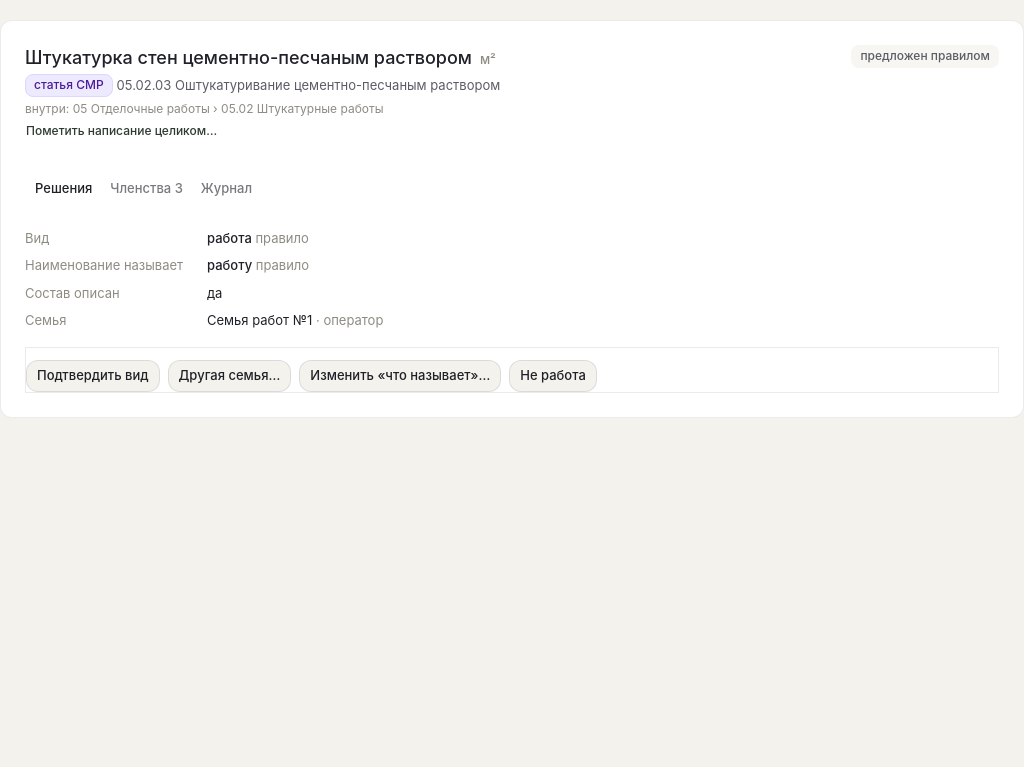
Test: ContextCard › раскрытие группы грузит её страницу запросом группы
Check: the heading "Штукатурка стен цементно-песчаным раствором" is shown, box x1=25 y1=47 x2=472 y2=68
What coordinates should you click on to do the following:
click the tab "Членства 3"
I would click on:
 (147, 189)
Its box is x1=103 y1=177 x2=190 y2=201.
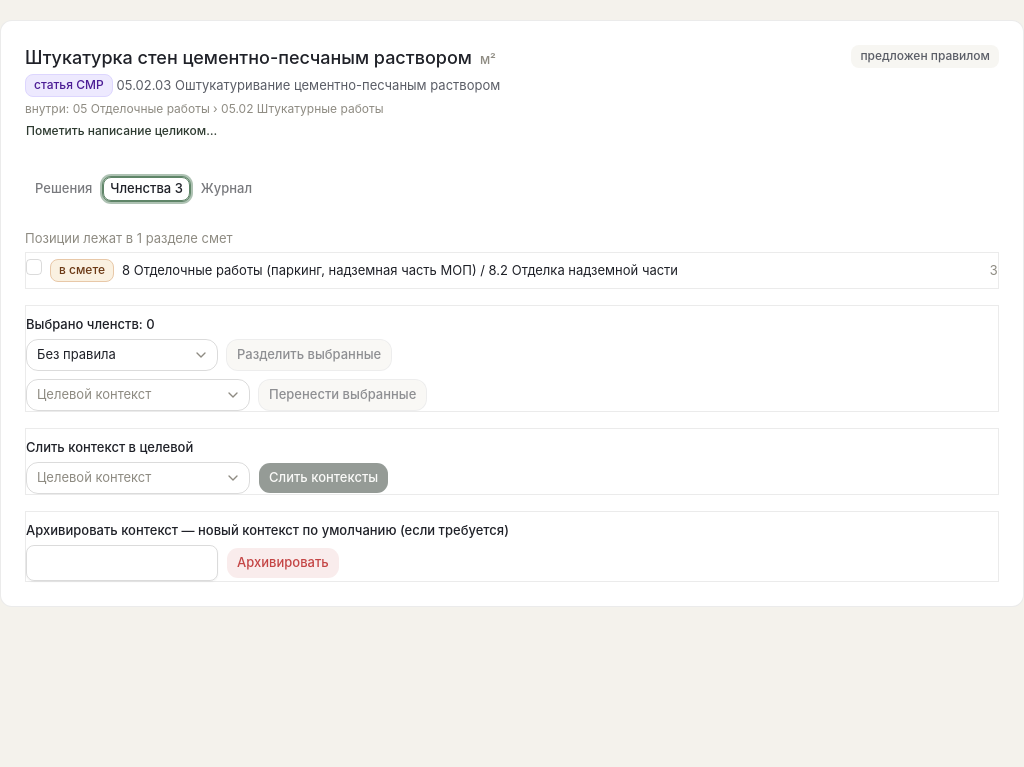
Check: the text "Штукатурка стен, ось А-Б" is not shown
What coordinates should you click on to do the following:
click the button with aria-label "Раскрыть группу «8 Отделочные работы"
I would click on:
 (524, 271)
Its box is x1=50 y1=259 x2=998 y2=282.
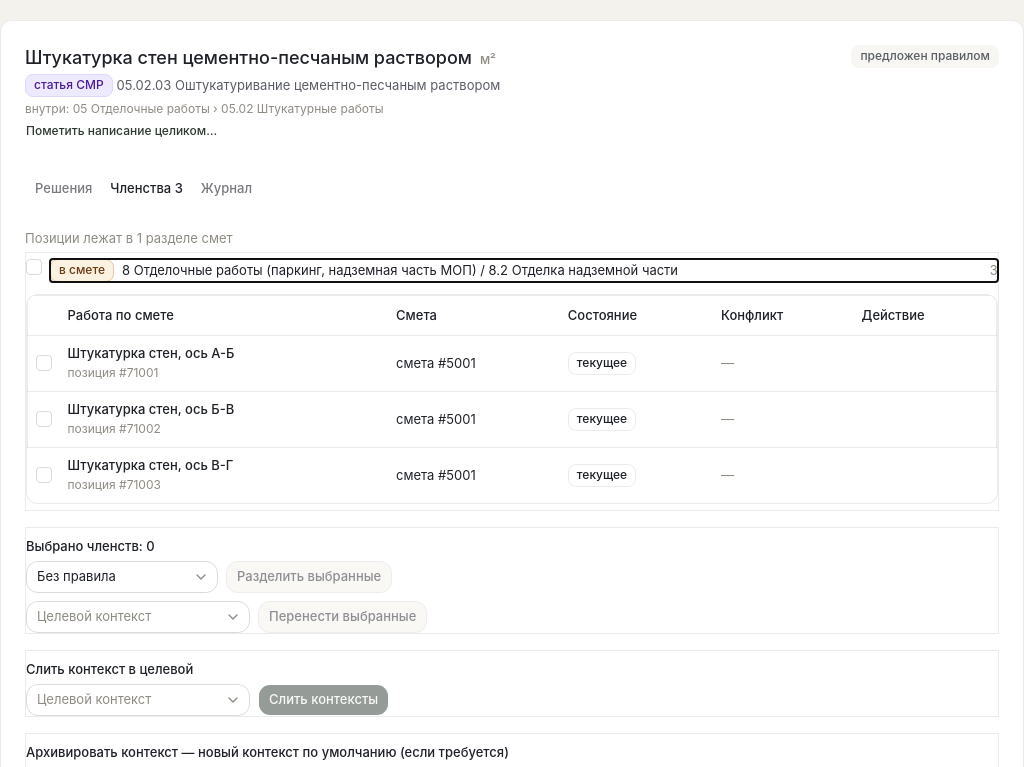
Check: the text "Штукатурка стен, ось А-Б" is shown, box x1=68 y1=345 x2=234 y2=361
Check: the text "Штукатурка стен, ось Б-В" is shown, box x1=68 y1=401 x2=234 y2=417
Check: the text "Штукатурка стен, ось В-Г" is shown, box x1=68 y1=457 x2=233 y2=473
